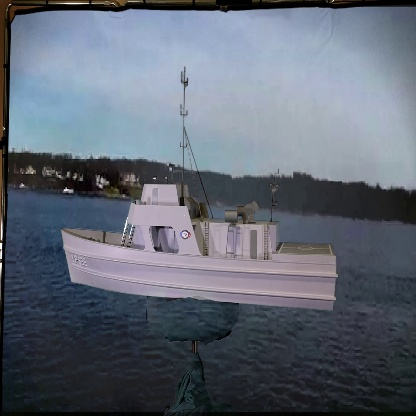YP689: (61, 54, 340, 314)
